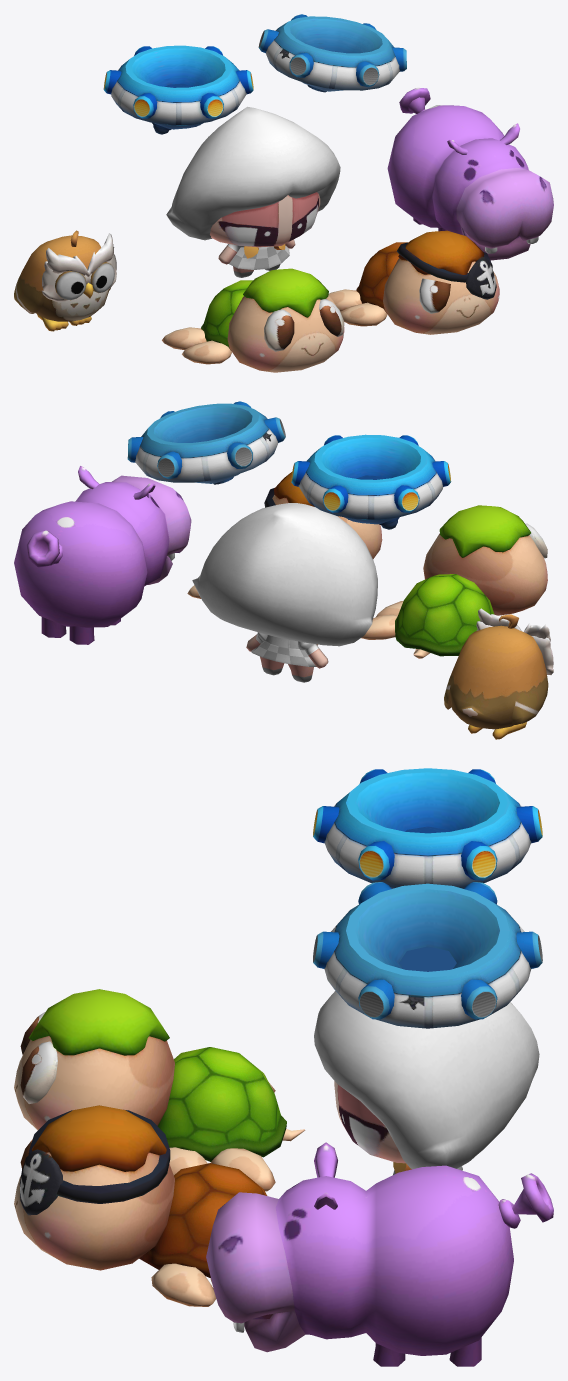
The model's file is mounts.glb.
3 views of the same model, one above another, from view 1: azimuth 30°, elevation 25°; view 2: azimuth 150°, elevation 25°; view 3: azimuth 270°, elevation 25° (orthographic). The views are drawn at different scales.
Visible parts, largest first — view 1: mesh_body_marid, mesh_body_hippo, mesh_body_turtle, mesh_body_superturtle, mesh_body_ufo, mesh_body_ufobroken, mesh_body_owl; view 2: mesh_body_marid, mesh_body_hippo, mesh_body_turtle, mesh_body_ufo, mesh_body_owl, mesh_body_ufobroken, mesh_body_superturtle; view 3: mesh_body_hippo, mesh_body_turtle, mesh_body_superturtle, mesh_body_marid, mesh_body_ufobroken, mesh_body_ufo.
Part boxes in pixels (x1=…): mesh_body_marid: x1=166, y1=106, x2=340, y2=277; mesh_body_hippo: x1=387, y1=87, x2=553, y2=260; mesh_body_turtle: x1=162, y1=268, x2=344, y2=372; mesh_body_superturtle: x1=328, y1=230, x2=499, y2=334; mesh_body_ufo: x1=103, y1=45, x2=253, y2=134; mesh_body_ufobroken: x1=258, y1=14, x2=406, y2=92; mesh_body_owl: x1=14, y1=230, x2=116, y2=331; mesh_body_marid: x1=192, y1=503, x2=377, y2=682; mesh_body_hippo: x1=14, y1=466, x2=191, y2=644; mesh_body_turtle: x1=361, y1=505, x2=547, y2=658; mesh_body_ufo: x1=291, y1=434, x2=451, y2=529; mesh_body_owl: x1=444, y1=608, x2=553, y2=739; mesh_body_ufobroken: x1=127, y1=401, x2=285, y2=484; mesh_body_superturtle: x1=187, y1=472, x2=382, y2=598; mesh_body_hippo: x1=206, y1=1142, x2=553, y2=1366; mesh_body_turtle: x1=14, y1=989, x2=305, y2=1191; mesh_body_superturtle: x1=14, y1=1105, x2=267, y2=1306; mesh_body_marid: x1=314, y1=991, x2=539, y2=1174; mesh_body_ufobroken: x1=313, y1=882, x2=542, y2=1028; mesh_body_ufo: x1=313, y1=768, x2=542, y2=888.
Size of the model in its own units: 3.11 by 1.39 by 1.96.
Materials: 12 (12 with a texture image).
